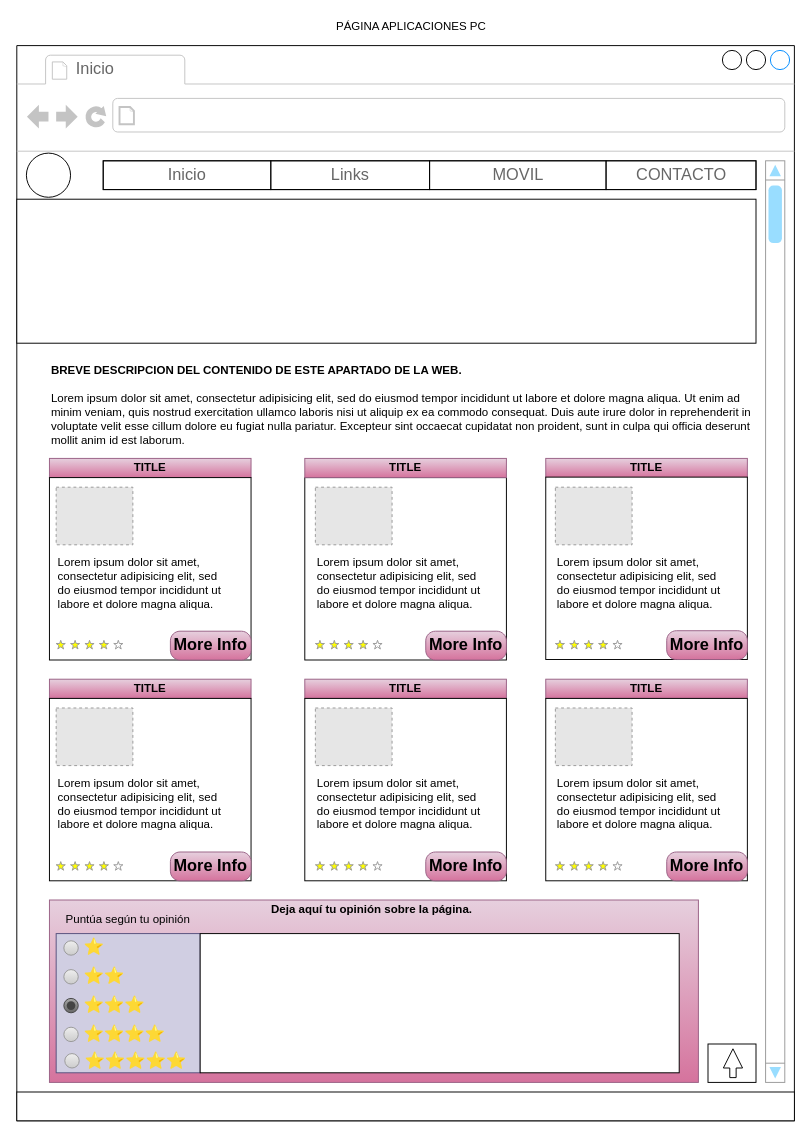
The diagram is 811 pixels wide and 1138 high, and some of its shapes have lost their labels. Grey dashed boxes stand in for pictures. Each missing label, with the centre of its shape:
"BANNER DE LA PAGINA" belongs at [386,270].
"Comentario opcional..." belongs at [439,1003].
"FOOTER" belongs at [405,1106].
"https://www.test-apps.es/aplicaciones-pc" belongs at [323,115].
"LOGO" belongs at [48,174].
